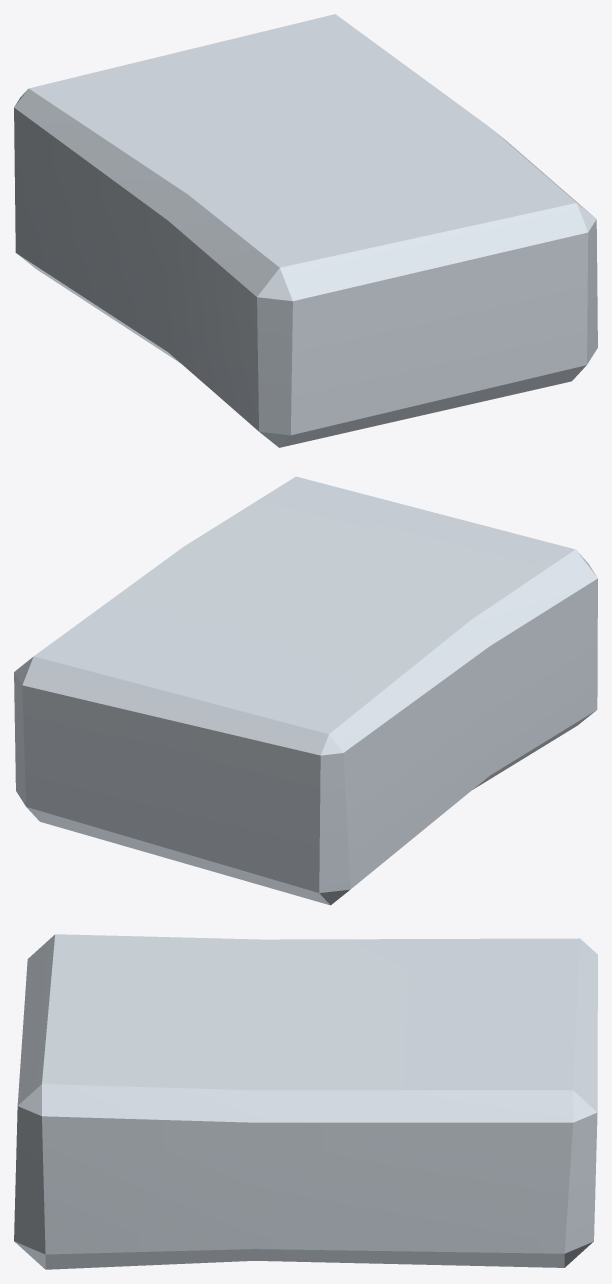
The model's file is Brick3.fbx.
3 views of the same model, one above another, from view 1: azimuth 30°, elevation 25°; view 2: azimuth 150°, elevation 25°; view 3: azimuth 270°, elevation 25° (orthographic). The views are drawn at different scales.
Visible parts, largest first — view 1: Brick3; view 2: Brick3; view 3: Brick3.
Part boxes in pixels (x1,y1,x2,y2): Brick3: (14,14,597,447); Brick3: (14,476,597,905); Brick3: (14,934,597,1269).
Bounding box in the file's own units: 216 × 108 × 300.
